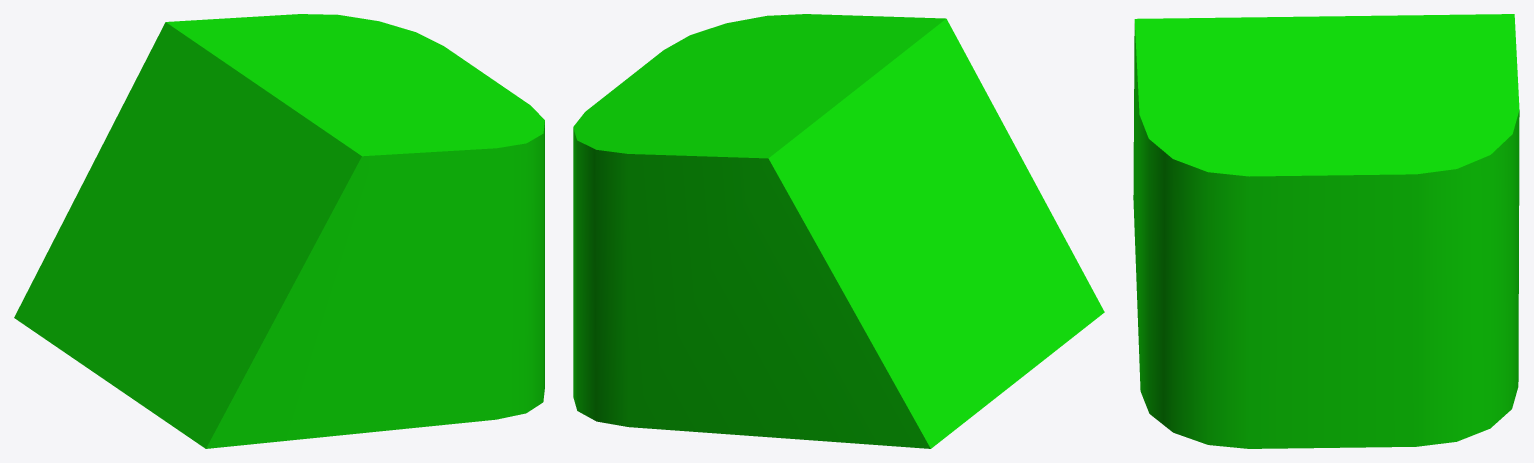
File: sm_castle_030.fbx
The picture shows the model from 3 angles, left to right: view 1: azimuth 30°, elevation 25°; view 2: azimuth 150°, elevation 25°; view 3: azimuth 270°, elevation 25°; orthographic projection.
Visible parts, largest first — view 1: sm_castle.030; view 2: sm_castle.030; view 3: sm_castle.030.
Part boxes in pixels (x1,y1,x2,y2): sm_castle.030: (14,14,544,448); sm_castle.030: (573,14,1104,448); sm_castle.030: (1133,14,1519,448).
Size of the model in its own units: 361 by 276 by 303.
